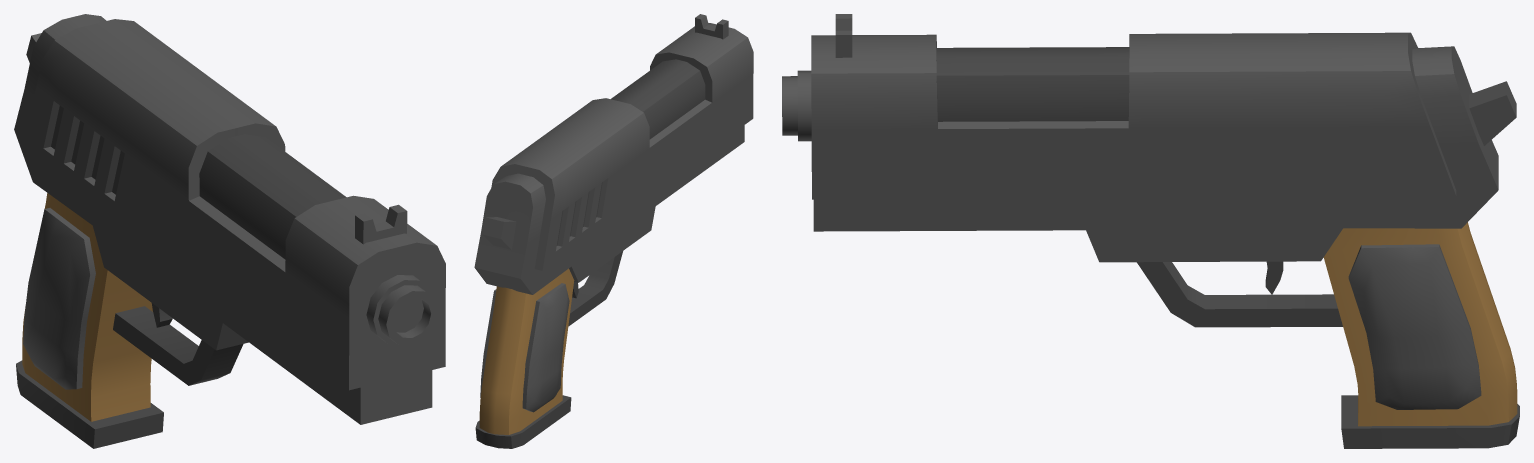
File: pistol2-food.fbx
3 views of the same model, side by side, from view 1: azimuth 30°, elevation 25°; view 2: azimuth 150°, elevation 25°; view 3: azimuth 270°, elevation 25° (orthographic). The views are drawn at different scales.
Visible parts, largest first — view 1: pistol2-food; view 2: pistol2-food; view 3: pistol2-food.
Boxes of the visible parts, left/top/right/bottom form: pistol2-food: left=14, top=14, right=445, bottom=448; pistol2-food: left=474, top=14, right=753, bottom=448; pistol2-food: left=782, top=14, right=1519, bottom=448.
Bounding box in the file's own units: 0.0599 × 0.2446 × 0.4012.
